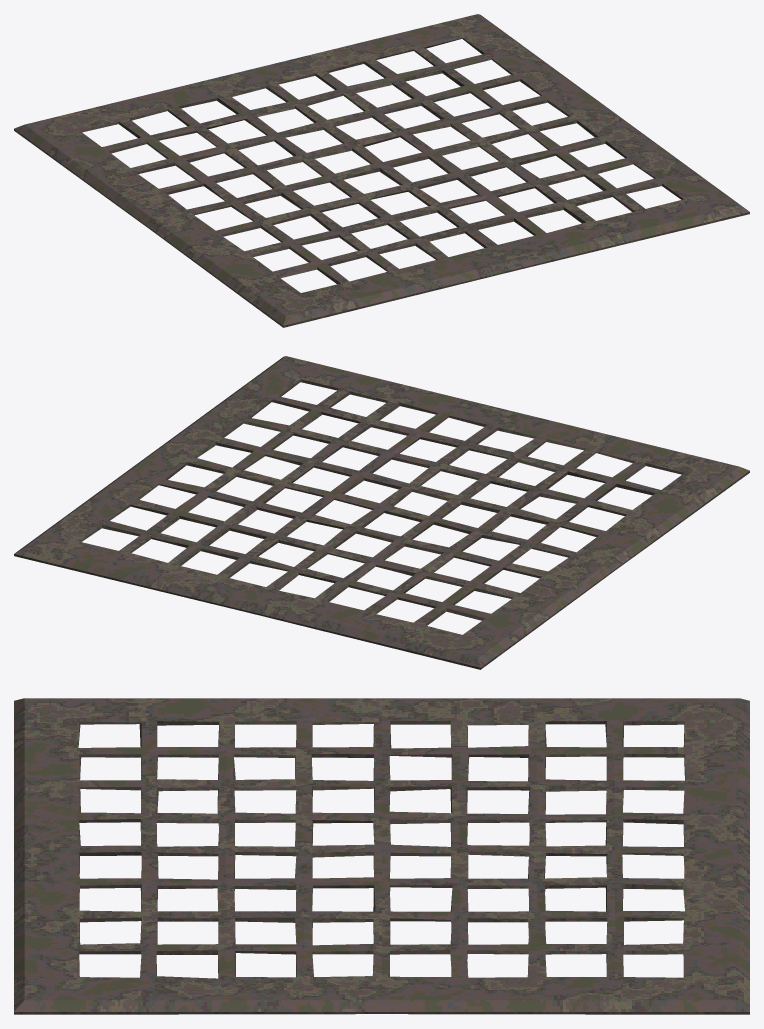
Rendered from floor_grate_01.gltf.
3 views of the same model, one above another, from view 1: azimuth 30°, elevation 25°; view 2: azimuth 150°, elevation 25°; view 3: azimuth 270°, elevation 25° (orthographic). The views are drawn at different scales.
Parts seen in each view (by area): view 1: floor_grate_01; view 2: floor_grate_01; view 3: floor_grate_01.
Part boxes in pixels (bbox=[...]): floor_grate_01: bbox=[14, 14, 749, 327]; floor_grate_01: bbox=[14, 356, 749, 669]; floor_grate_01: bbox=[14, 698, 749, 1014].
Size of the model in its own units: 4 by 0.0681 by 4.
1 material, 1 textured.
